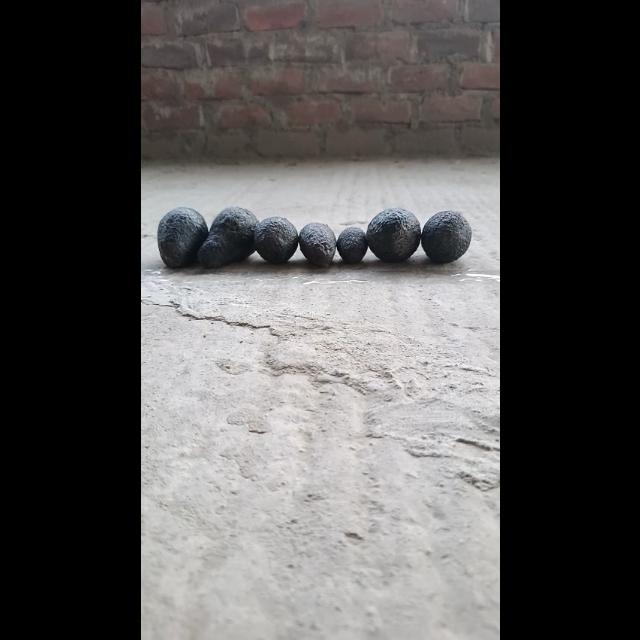Primera: (198, 206, 256, 268), (154, 206, 206, 268), (365, 206, 421, 262), (420, 209, 472, 263)
Segunda: (253, 216, 297, 264), (296, 222, 338, 266)
Tercera: (335, 226, 367, 264)
